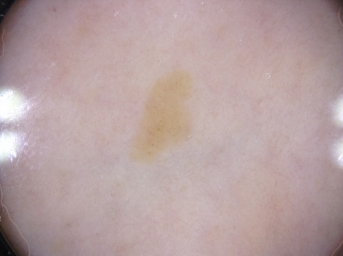seborrheic keratosis: (119, 65, 211, 171)
